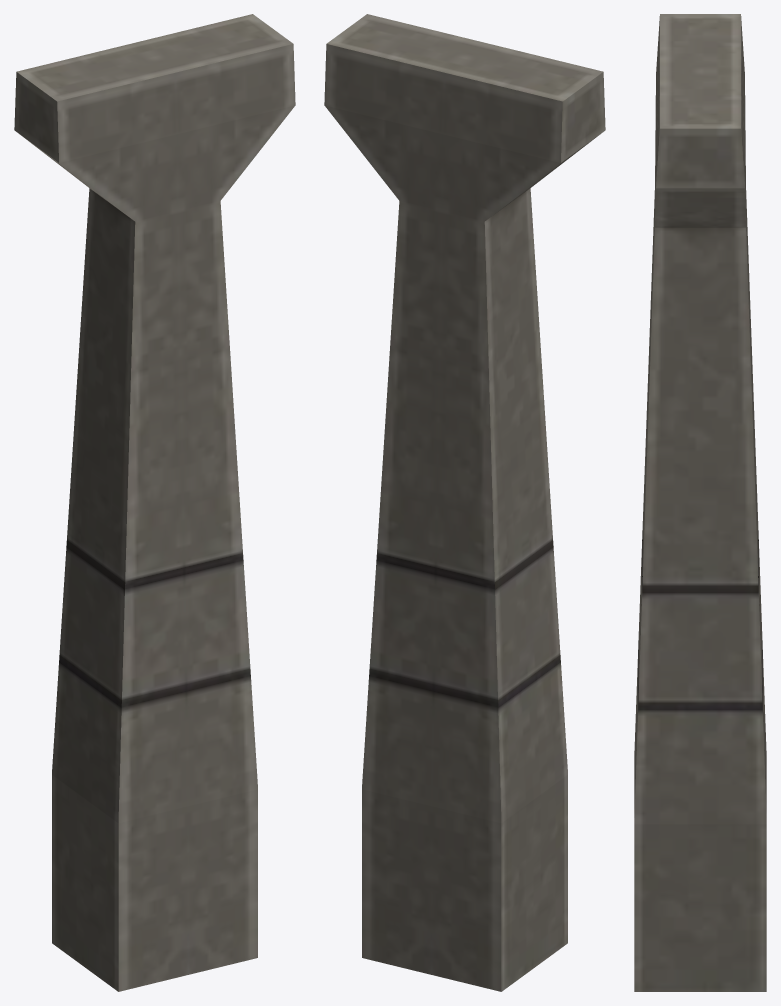
The model's file is Part - Column 03-DVlLrW4u.glb.
The picture shows the model from 3 angles, left to right: view 1: azimuth 30°, elevation 25°; view 2: azimuth 150°, elevation 25°; view 3: azimuth 270°, elevation 25°; orthographic projection.
Visible parts, largest first — view 1: Column_03; view 2: Column_03; view 3: Column_03.
Part boxes in pixels (x1,y1,x2,y2): Column_03: (14,14,295,991); Column_03: (324,14,605,991); Column_03: (634,14,766,991).
Bounding box in the file's own units: 0.2771 × 1 × 0.1353.
1 material, 1 textured.
